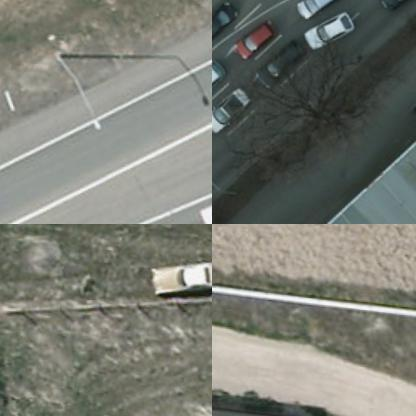car: (149, 250, 211, 298), (257, 33, 306, 88), (303, 6, 357, 52), (212, 87, 251, 140), (234, 18, 278, 64), (212, 0, 235, 45), (295, 0, 344, 21), (212, 50, 227, 108)
